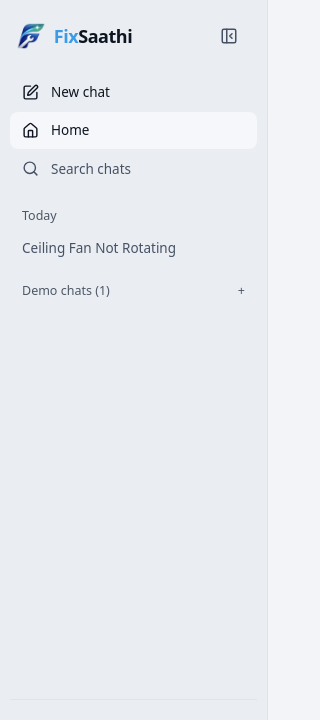
chat history sidebar › keeps scripted demo chats in one collapsed group
Check: the link "Ceiling Fan Not Rotating" is shown, box left=22, top=238, right=176, bottom=256
Check: the text "Demo: Ceiling fan: burn marks" is not shown
Step 1. Click the button "Demo chats (1) +" → click(134, 291), box left=10, top=278, right=257, bottom=305
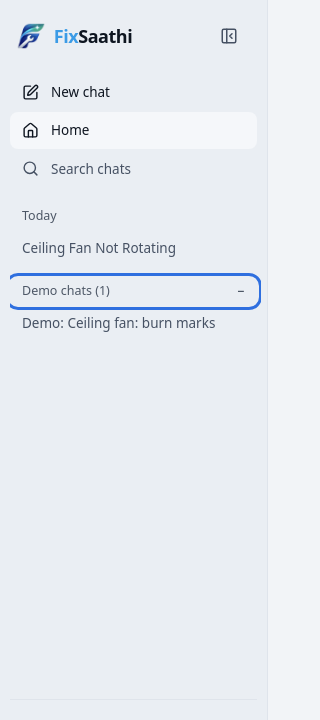
Check: the link "Demo: Ceiling fan: burn marks" is shown, box left=22, top=314, right=215, bottom=332
